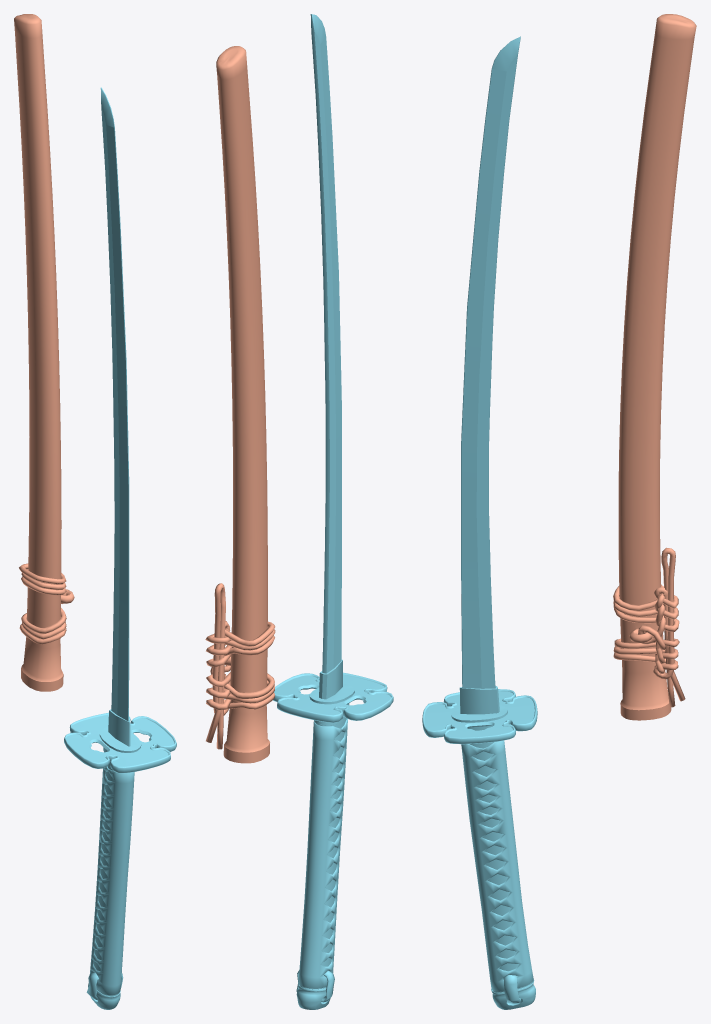
The model's file is katana.FBX.
3 views of the same model, side by side, from view 1: azimuth 30°, elevation 25°; view 2: azimuth 150°, elevation 25°; view 3: azimuth 270°, elevation 25° (orthographic). The views are drawn at different scales.
Visible parts, largest first — view 1: scabbard_low, blade_low, handle_low, handguard_low, sageo_wrap_low, scabbard_sleve_low, metal_spacer_up_low; view 2: scabbard_low, blade_low, handle_low, sageo_wrap_low, handguard_low, scabbard_sleve_low, buttcap_low, metal_spacer_up_low; view 3: scabbard_low, blade_low, handle_low, sageo_wrap_low, handguard_low, scabbard_sleve_low, buttcap_low.
Part boxes in pixels (x1,y1,x2,y2): scabbard_low: (14, 14, 74, 691); blade_low: (100, 87, 129, 721); handle_low: (89, 764, 134, 995); handguard_low: (64, 712, 176, 773); sageo_wrap_low: (19, 563, 66, 644); scabbard_sleve_low: (108, 709, 130, 746); metal_spacer_up_low: (99, 727, 141, 752); scabbard_low: (216, 46, 269, 763); blade_low: (310, 14, 341, 673); handle_low: (298, 719, 347, 989); sageo_wrap_low: (205, 583, 275, 749); handguard_low: (273, 672, 393, 722); scabbard_sleve_low: (319, 659, 342, 699); buttcap_low: (296, 984, 330, 1009); metal_spacer_up_low: (309, 683, 354, 704); scabbard_low: (618, 14, 696, 720); blade_low: (461, 36, 520, 688); handle_low: (461, 740, 533, 992); sageo_wrap_low: (613, 547, 685, 707); handguard_low: (422, 689, 537, 744); scabbard_sleve_low: (459, 686, 499, 714); buttcap_low: (491, 979, 535, 1009).
Bounding box in the file's own units: 4.33 × 41.83 × 10.5.
